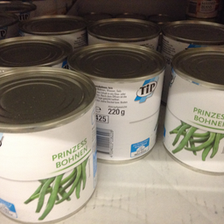beans: (1, 70, 99, 216), (166, 44, 224, 176)
